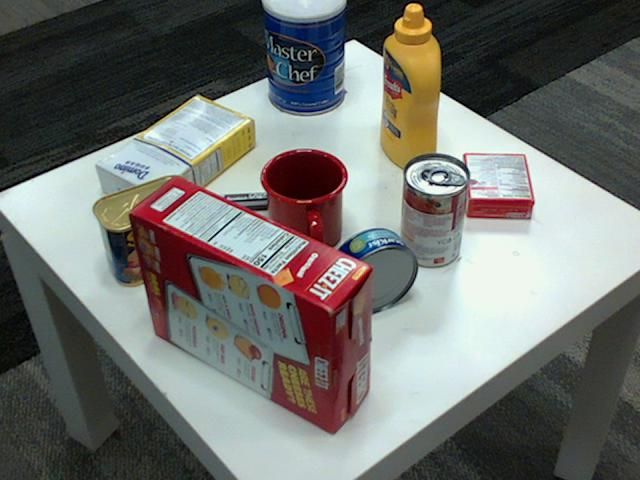cracker_box: (126, 175, 371, 431)
gelatin_box: (463, 152, 536, 217)
large_marker: (207, 189, 314, 215)
master_chef_can: (260, 0, 344, 114)
mug: (260, 145, 349, 254)
mustard_bottle: (380, 4, 439, 171)
potted_meat_can: (93, 174, 202, 286)
sugar_box: (96, 93, 256, 217)
tomato_soup_can: (399, 153, 469, 266)
tuna_fish_can: (329, 227, 419, 312)
